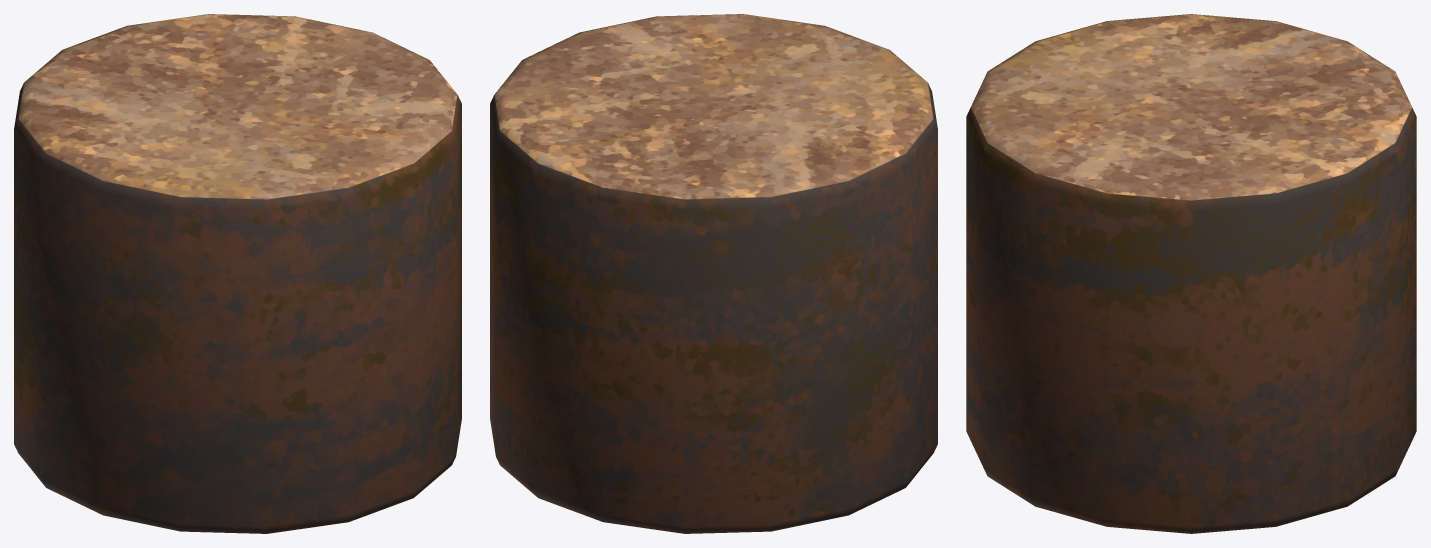
The model's file is Stump_Cvl_12-11.fbx.
3 views of the same model, side by side, from view 1: azimuth 30°, elevation 25°; view 2: azimuth 150°, elevation 25°; view 3: azimuth 270°, elevation 25° (orthographic).
Parts seen in each view (by area): view 1: Cylinder.011; view 2: Cylinder.011; view 3: Cylinder.011.
Part boxes in pixels (box(x1,y1,x2,y2)): Cylinder.011: box(14, 14, 461, 533); Cylinder.011: box(490, 14, 937, 533); Cylinder.011: box(966, 14, 1416, 533).
Size of the model in its own units: 566 by 473 by 566.
Materials: 1 (1 with a texture image).
